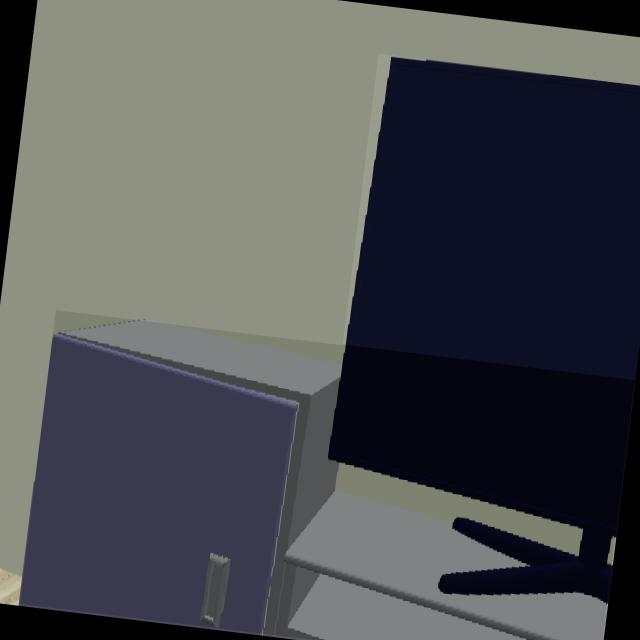cabinet: (22, 320, 607, 640)
monitor: (328, 59, 640, 601)
